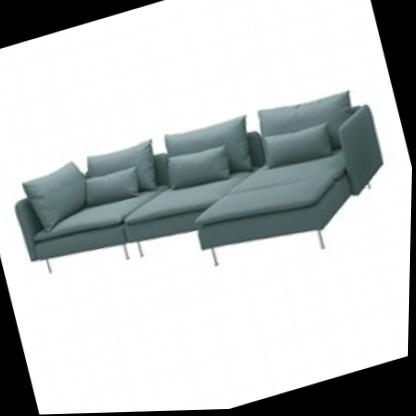Sofa: (0, 42, 407, 334)
